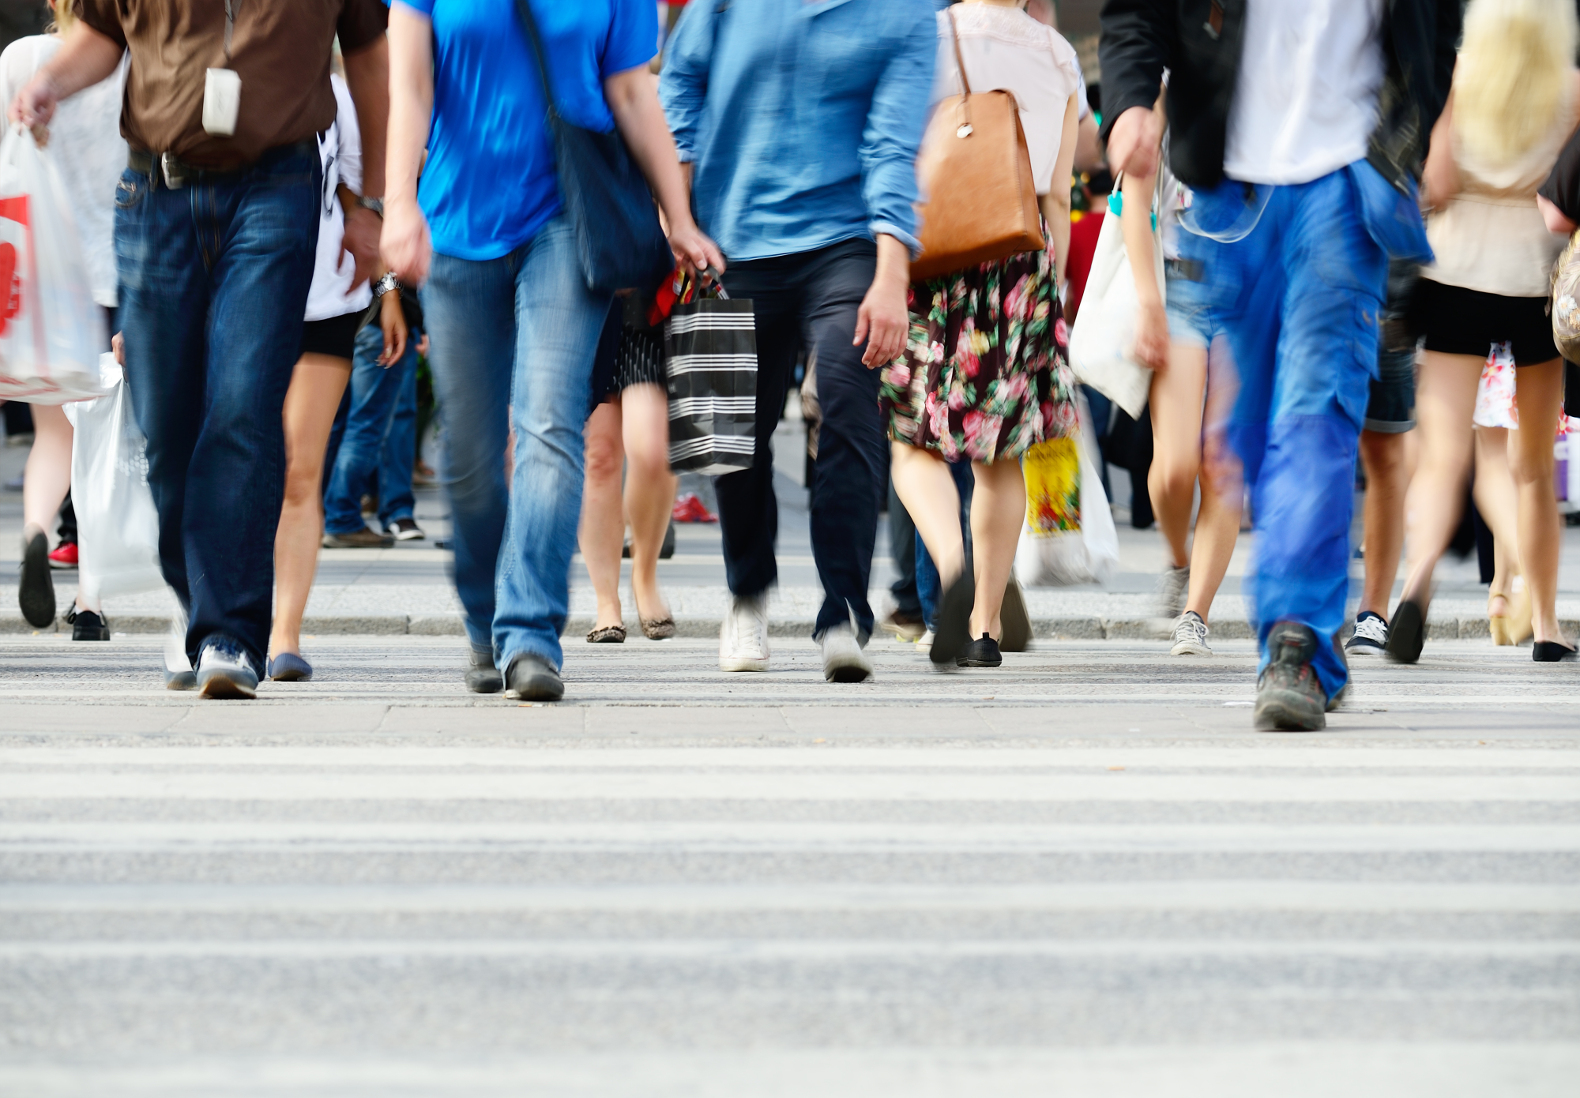pedestrian: (1, 1, 383, 724), (363, 1, 722, 713), (667, 1, 937, 697)
